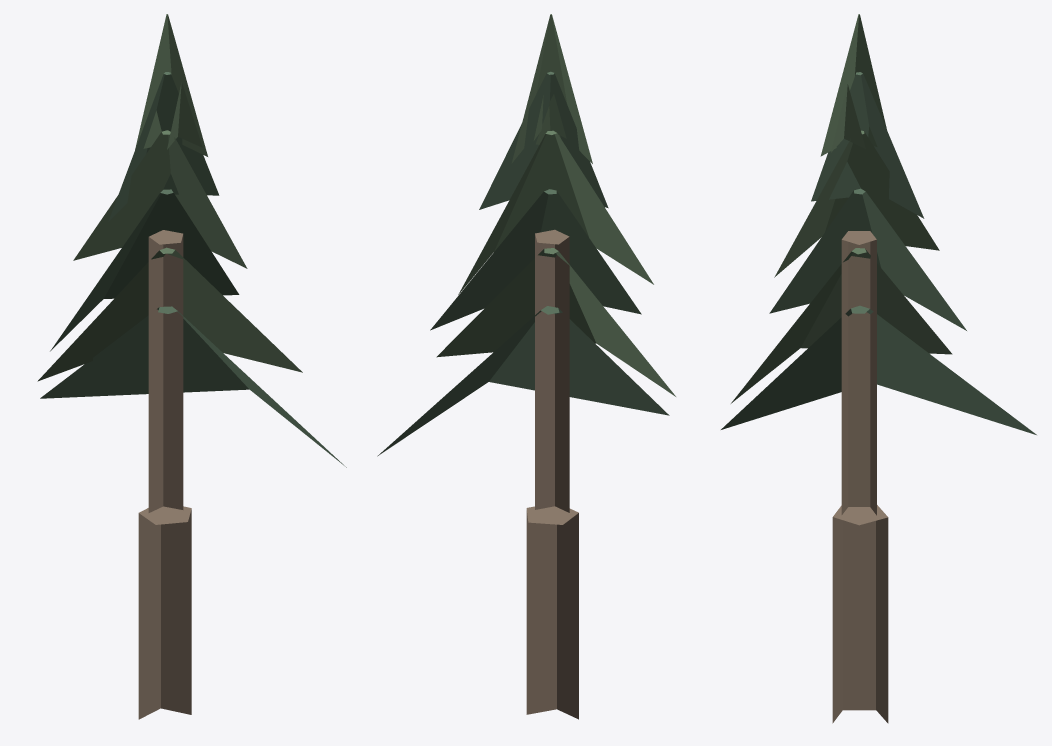
File: tree.sub.masson_pine__spring.glb
3 views of the same model, side by side, from view 1: azimuth 30°, elevation 25°; view 2: azimuth 150°, elevation 25°; view 3: azimuth 270°, elevation 25° (orthographic).
Parts seen in each view (by area): view 1: tree.sub.masson_pine__spring; view 2: tree.sub.masson_pine__spring; view 3: tree.sub.masson_pine__spring.
Boxes of the visible parts, <box> form: tree.sub.masson_pine__spring: <box>37,14,346,719</box>; tree.sub.masson_pine__spring: <box>377,14,675,719</box>; tree.sub.masson_pine__spring: <box>721,14,1036,723</box>.
Bounding box in the file's own units: 7.66 × 18.78 × 7.66.
